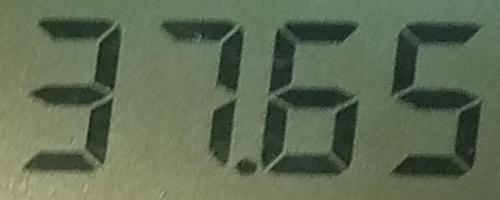.: (234, 152, 258, 179)
